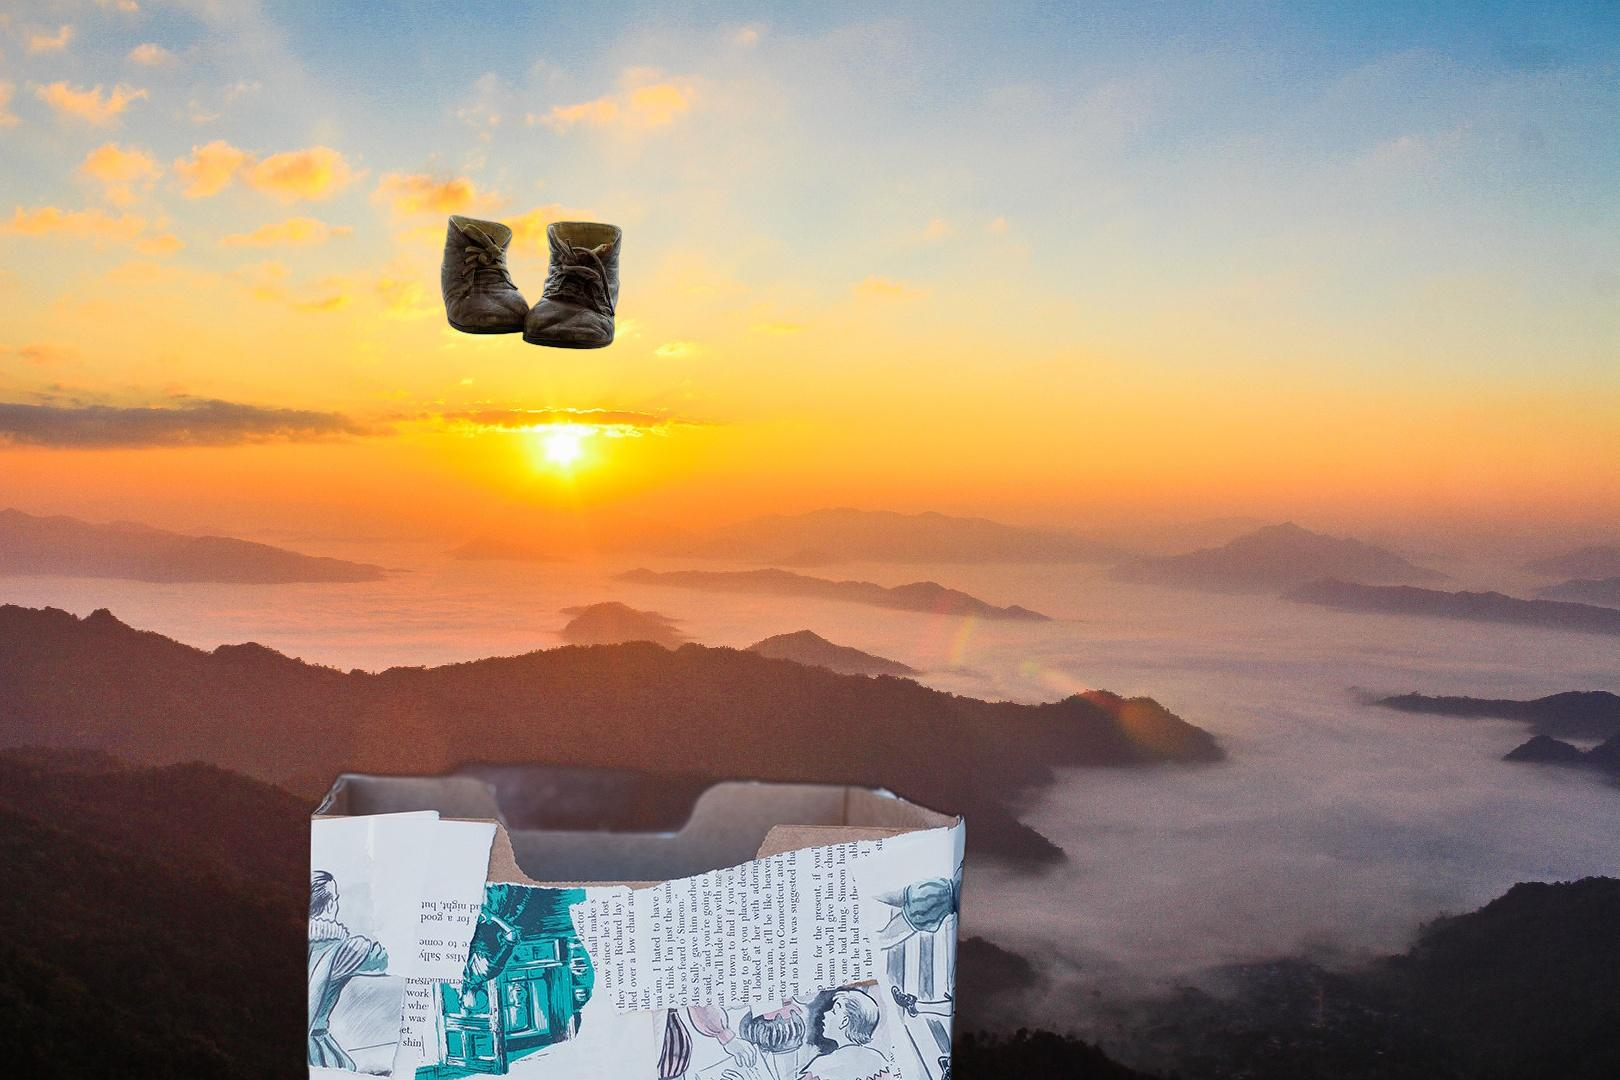shoes: (438, 213, 626, 352)
trashbox-cardboard: (295, 750, 973, 1080)
